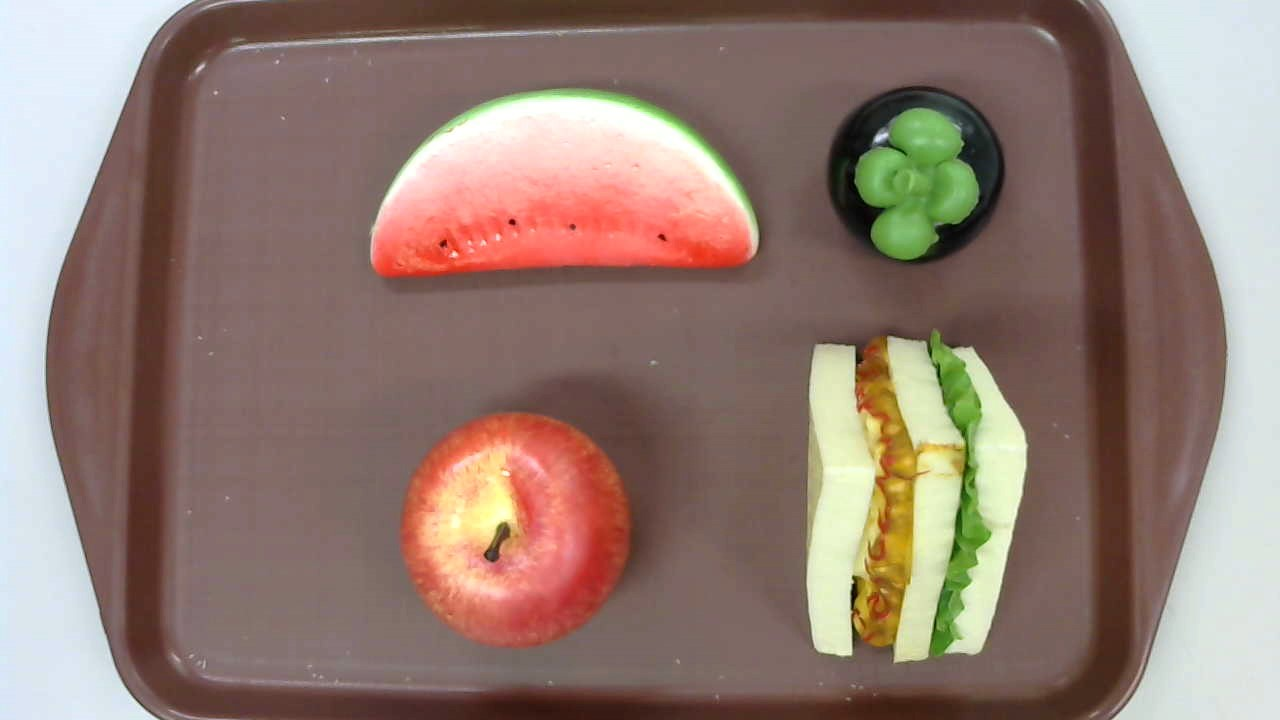mangosteen: (826, 86, 1006, 267)
red apple: (401, 409, 634, 651)
sandwich: (808, 327, 1028, 665)
water melon: (370, 86, 760, 280)
